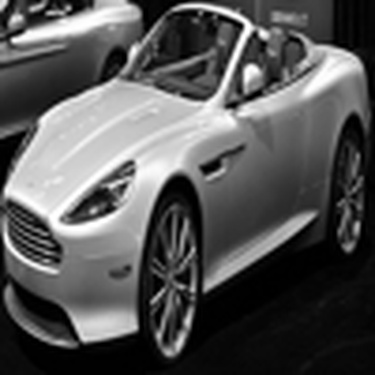car: (3, 10, 371, 370), (1, 8, 146, 150)
